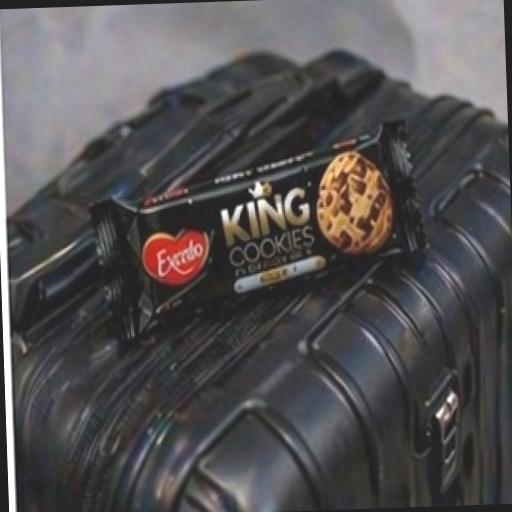king-cooking: (74, 71, 484, 382)
